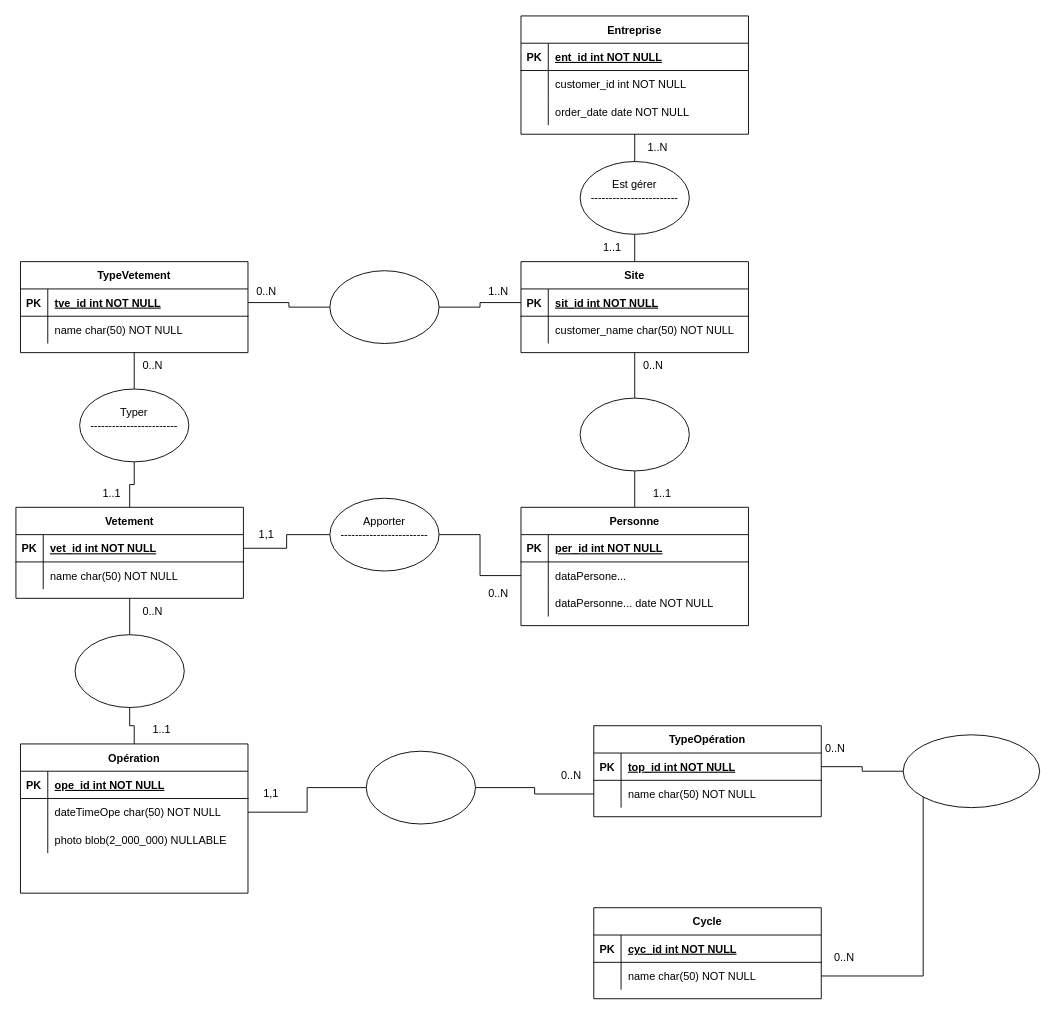
The diagram is 1056 pixels wide and 1015 high, and some of its shapes have lost their labels. Each missing label, with the centre of its shape:
Appartenir ------------------------: [634,434]
Attribuer ------------------------ limit: [384,307]
Catégoriser ------------------------: [420,787]
Cycler ------------------------------------- ordre int NOT NULL: [971,771]
Subir ------------------------: [129,671]
